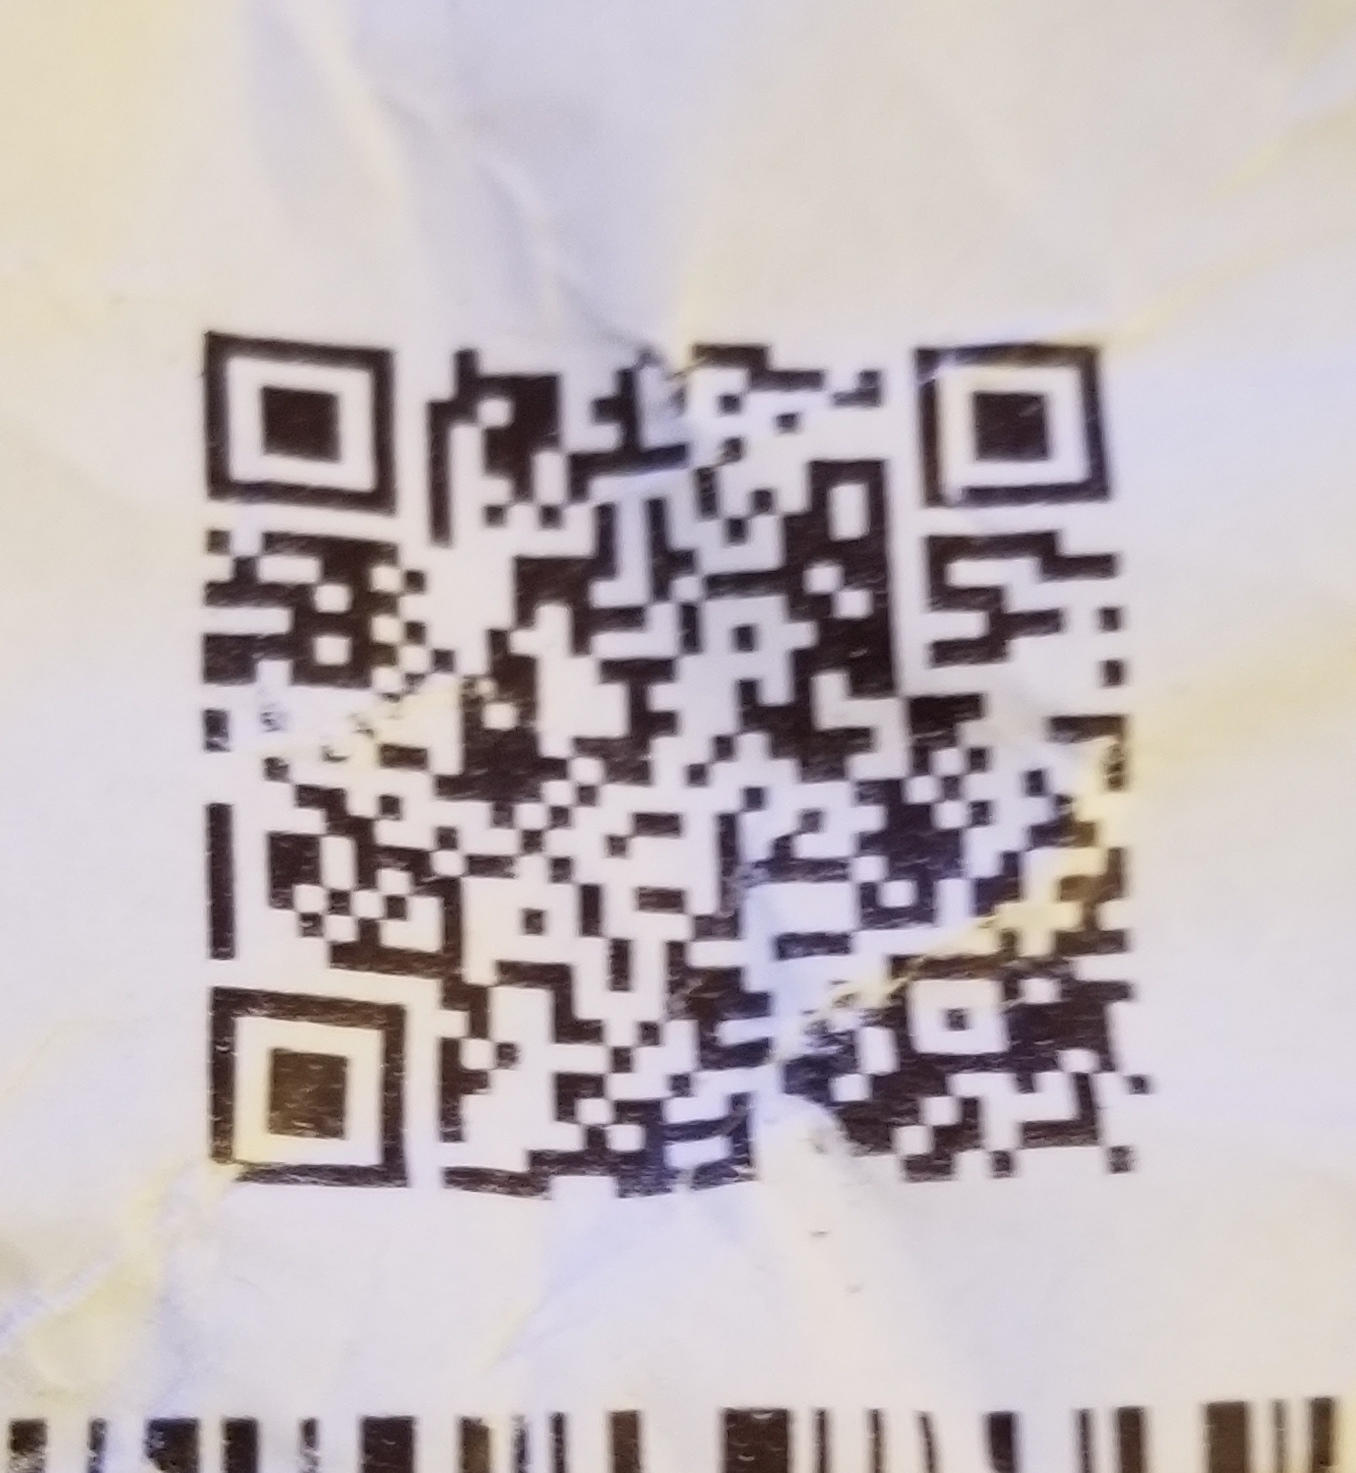QR_CODE: (142, 243, 1205, 1219)
